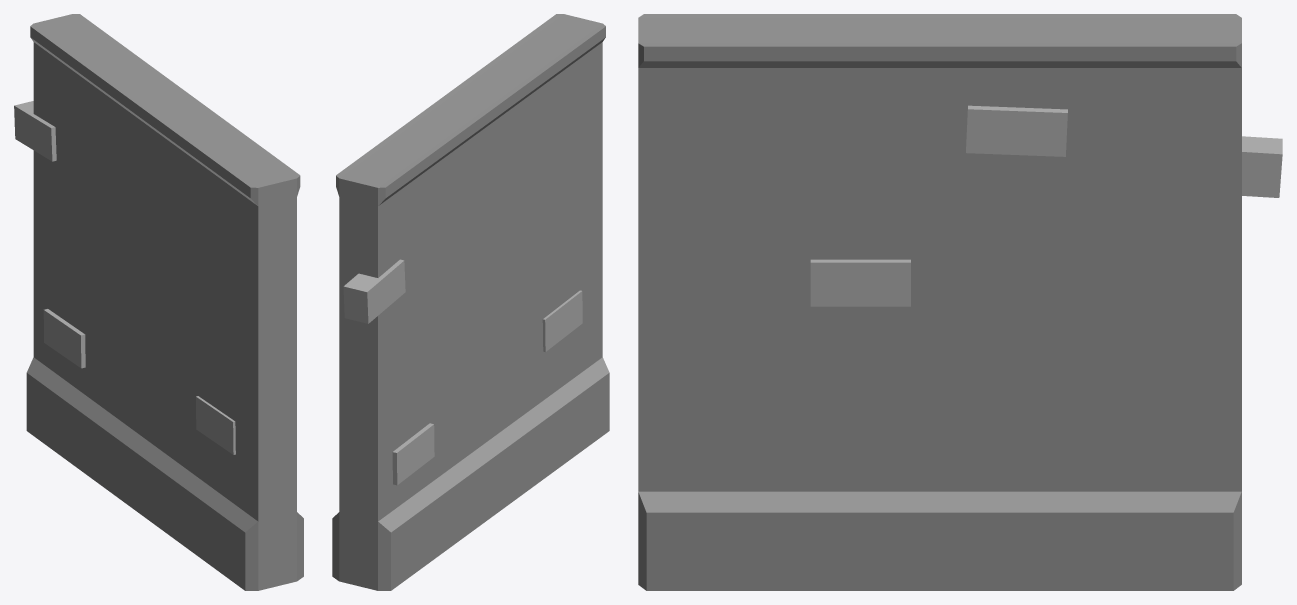
The model's file is mur2.FBX.
3 renders of one model, left to right at view 1: azimuth 30°, elevation 25°; view 2: azimuth 150°, elevation 25°; view 3: azimuth 270°, elevation 25°, orthographic. The views are drawn at different scales.
Parts seen in each view (by area): view 1: Mur004; view 2: Mur004; view 3: Mur004.
Boxes of the visible parts, <box> form: Mur004: <box>14,14,303,590</box>; Mur004: <box>332,14,609,590</box>; Mur004: <box>638,14,1282,590</box>.
Size of the model in its own units: 15.08 by 99.03 by 107.
1 material, 1 textured.
